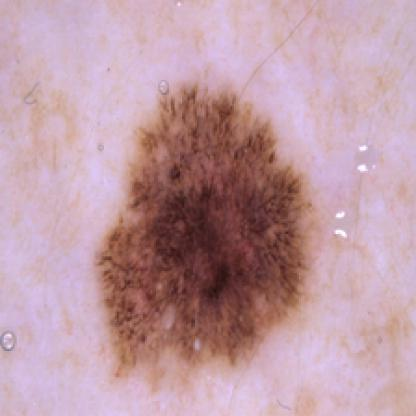benign: (93, 78, 317, 379)
